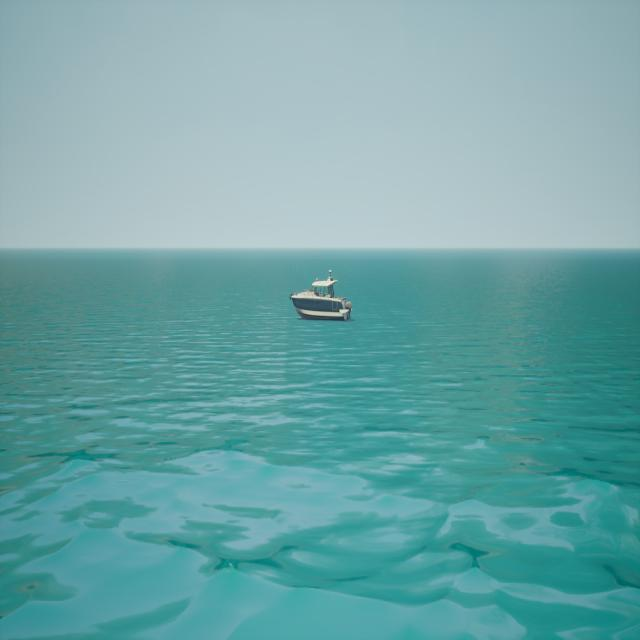ship: (289, 268, 353, 320)
